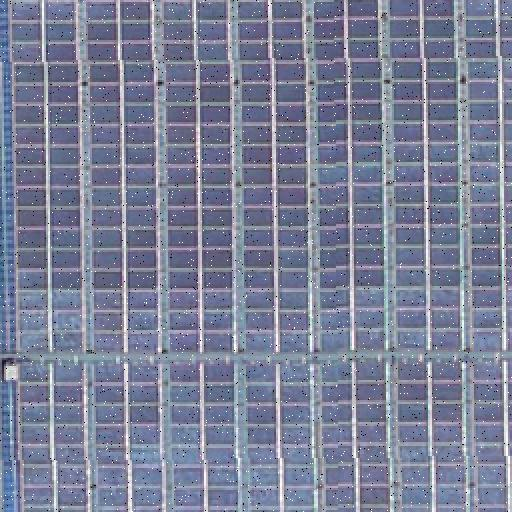solar-panel: (309, 0, 387, 352), (386, 1, 462, 351), (239, 0, 313, 352), (163, 0, 237, 352), (87, 0, 161, 352), (11, 0, 85, 352), (464, 1, 512, 351), (16, 364, 92, 512), (394, 360, 466, 512), (168, 361, 240, 511), (321, 360, 391, 512), (93, 361, 163, 511), (248, 360, 316, 512), (472, 358, 512, 512)
